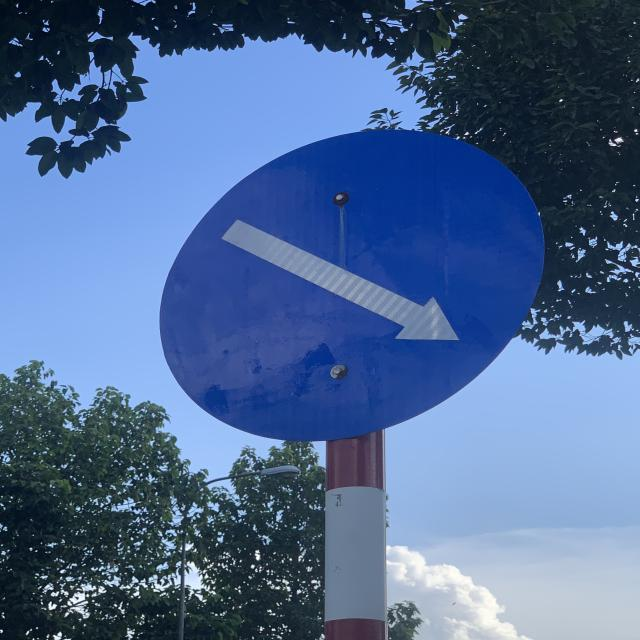Chi_Huong_Di_Phai: (163, 123, 548, 444)
